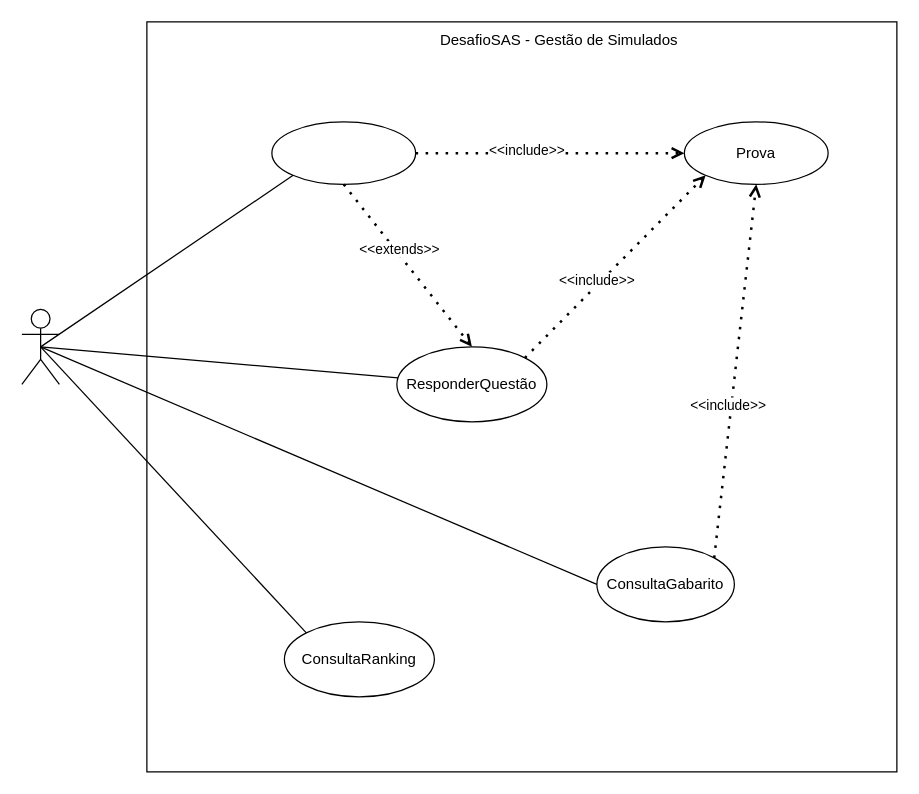
Some shapes in this 919 by 794 pixel diagram are drawn without their labels. The box of each missing label's shape, as (x1, y1, x2, y2) in pixels:
Aluno: (21, 308, 59, 384)
RealizaSimulado: (271, 121, 416, 184)
